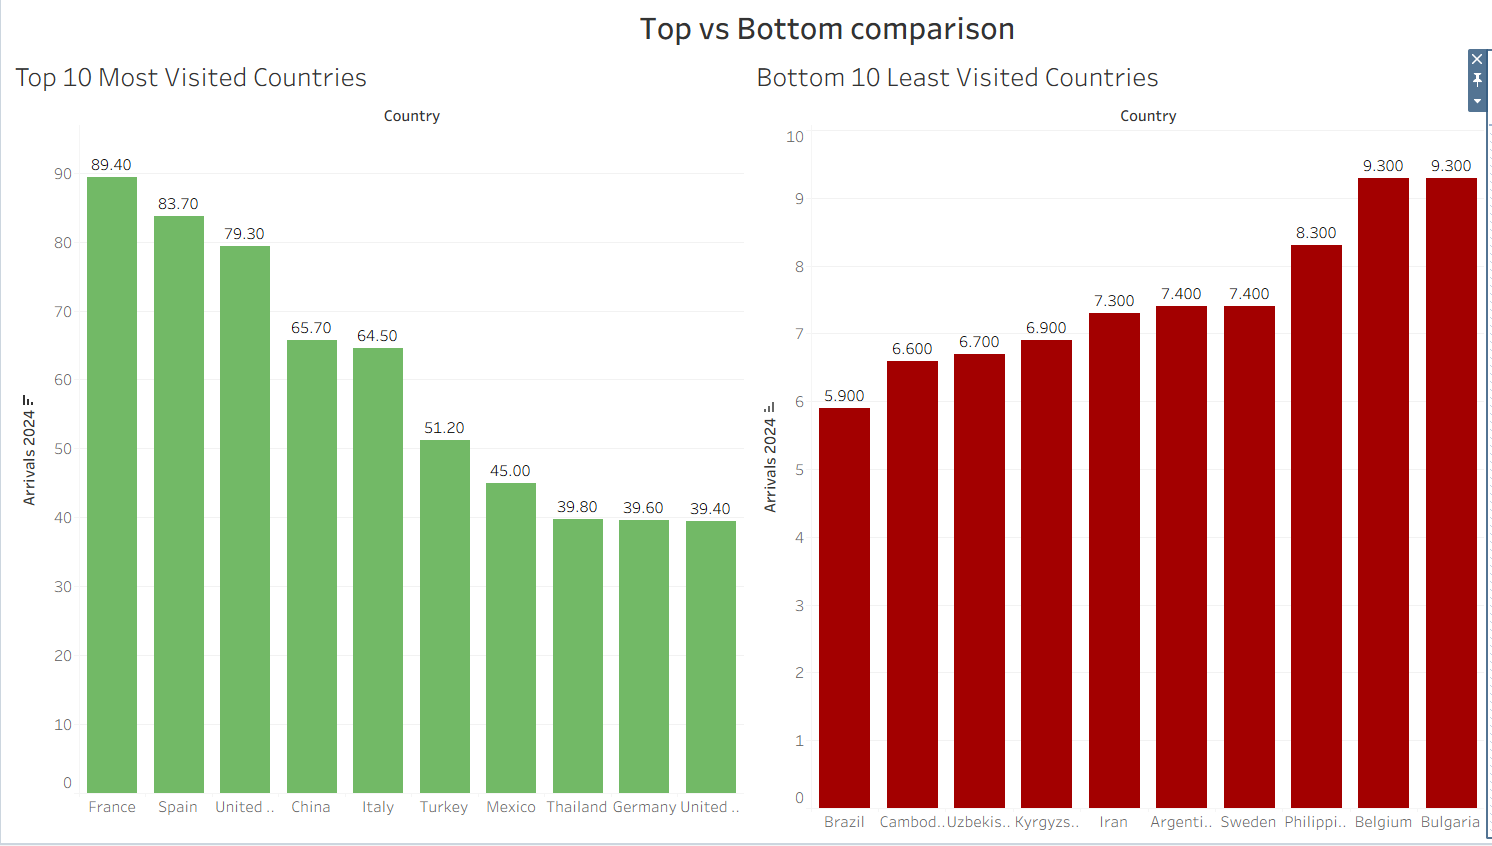

The page's visual inventory and layout, read from the dashboard file:
{"tool":"tableau","page":{"name":"Top vs Bottom comparison","canvas":[1000,1000],"units":"permille","ordinal":1},"visuals":[{"type":"title","box":[4.2,9.4,991.5,57.6]},{"type":"worksheet","title":"Top 10 Most Visited Countries","mark":"Automatic","rows":["Arrivals 2024"],"cols":["country"],"box":[4.2,67,453.4,923.6]},{"type":"worksheet","title":"Bottom 10 Least Visited Countries","mark":"Automatic","rows":["Arrivals 2024"],"cols":["country"],"box":[457.6,67,453.4,923.6]},{"type":"filter","title":"Bottom 10 Least Visited Countries","param":"[federated.04ym1711umqwv311bciuc1bqlbsj].[sum:Arrivals 2024:qk]","box":[911,67,84.8,85.8]}]}

Visuals, with their boxes on the dashboard's canvas, which has no fixed pixel size, in thousandths of its width and height (x1, y1, x2, y2). These are canvas units, not pixel positions in the 1492x846 screenshot, which may show the page scaled, cropped or inside an application window:
title: [x1=4, y1=9, x2=996, y2=67]
"Top 10 Most Visited Countries" worksheet: [x1=4, y1=67, x2=458, y2=991]
"Bottom 10 Least Visited Countries" worksheet: [x1=458, y1=67, x2=911, y2=991]
"Bottom 10 Least Visited Countries" filter: [x1=911, y1=67, x2=996, y2=153]
